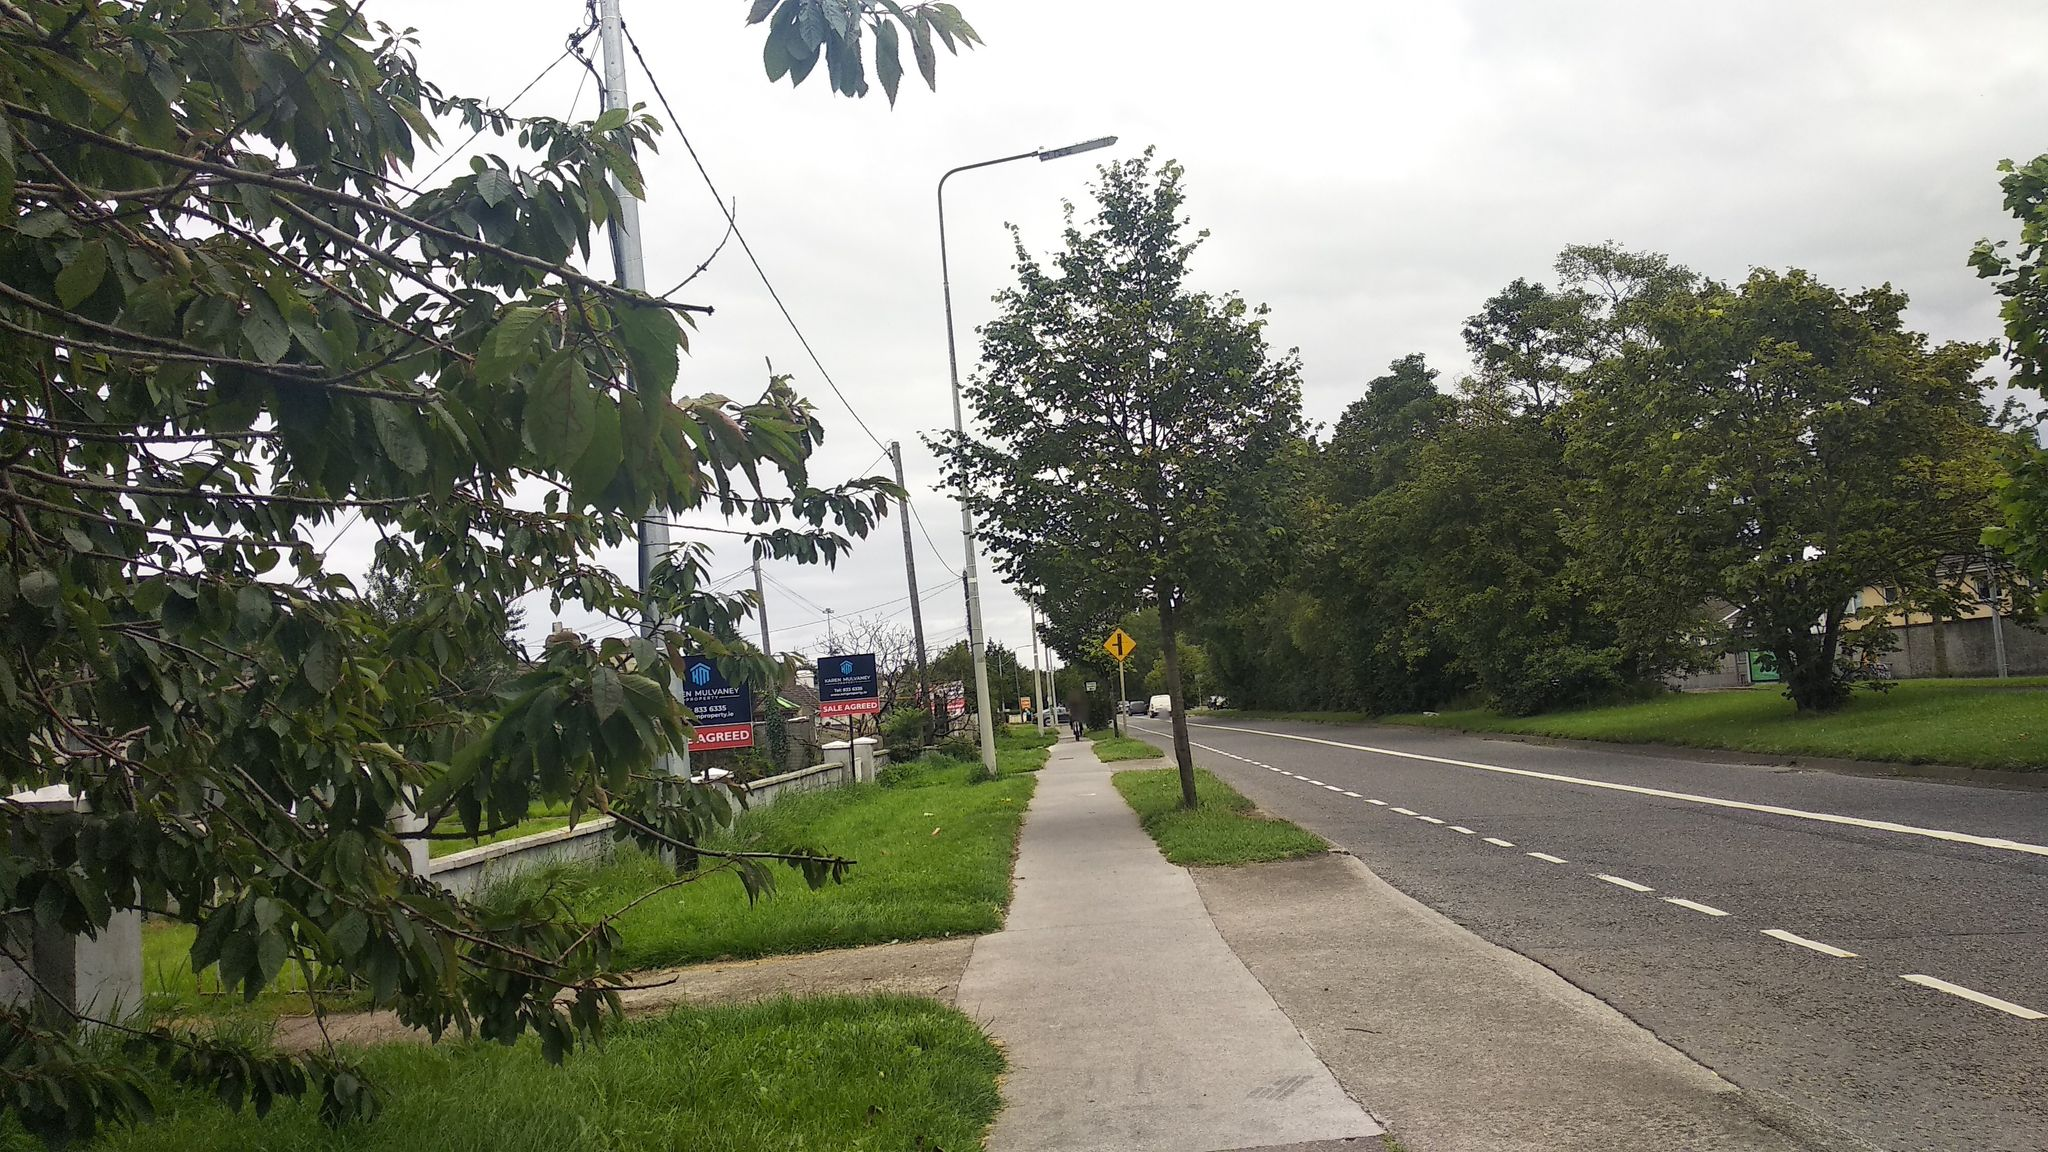property sign: (663, 647, 778, 762), (809, 648, 888, 722)
